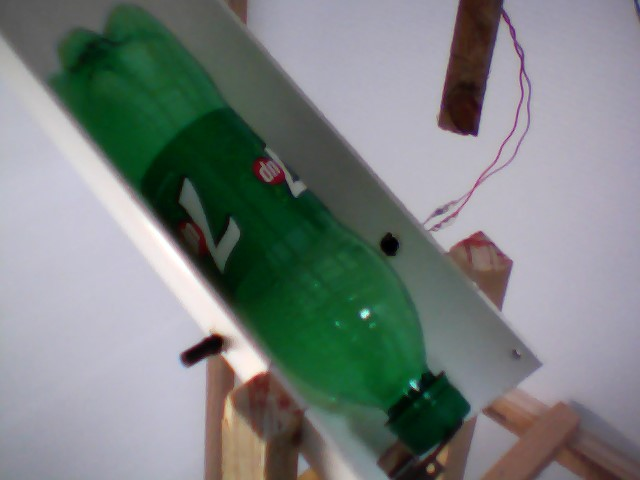plastico: (32, 1, 478, 456)
